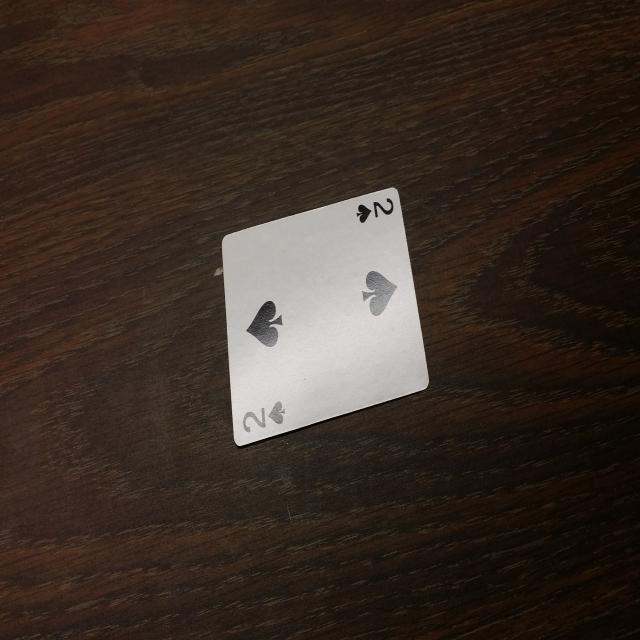2s: (238, 394, 290, 445), (354, 188, 398, 230)
